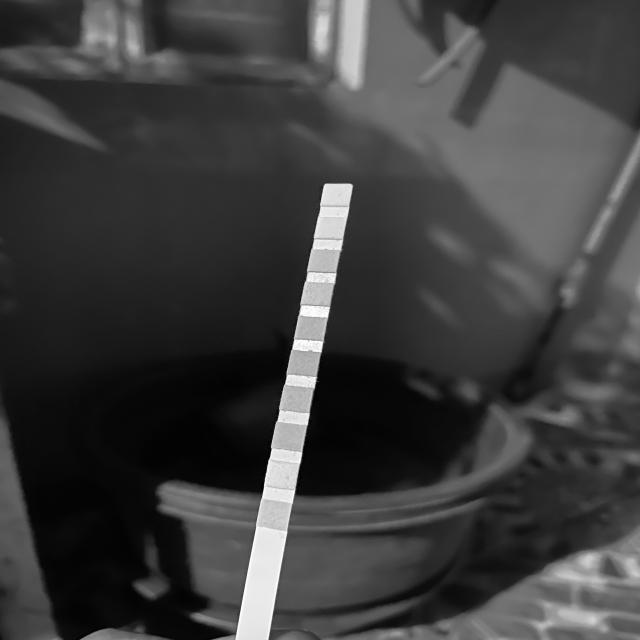Bilirubin: (269, 464, 295, 486)
Blood: (290, 354, 319, 374)
Glucose: (260, 504, 288, 526)
Ketone: (275, 426, 304, 448)
Leukocytes: (324, 186, 348, 206)
Nitrite: (319, 218, 342, 237)
Protein: (306, 285, 330, 304)
SpGravity: (284, 389, 310, 410)
Urobilinogen: (310, 251, 336, 271)
background: (0, 0, 640, 640)
pH: (299, 319, 323, 338)
strip: (236, 183, 354, 640)
